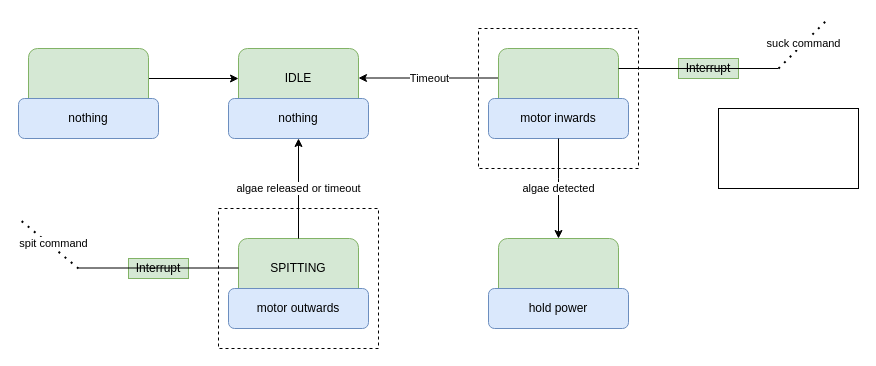
The diagram is 876 pixels wide and 366 high, and some of its shapes have lost their labels. The shapes that lost their labels are listed below. From the top down, each one's centre as x and y in pixels, then its label:
At point (88, 78): "INIT".
At point (558, 78): "SUCKING".
At point (788, 148): "Sensors: - Algae sensor (breakbeam?) Motors: - Neo 550".
At point (558, 268): "HAS_ALGAE".
